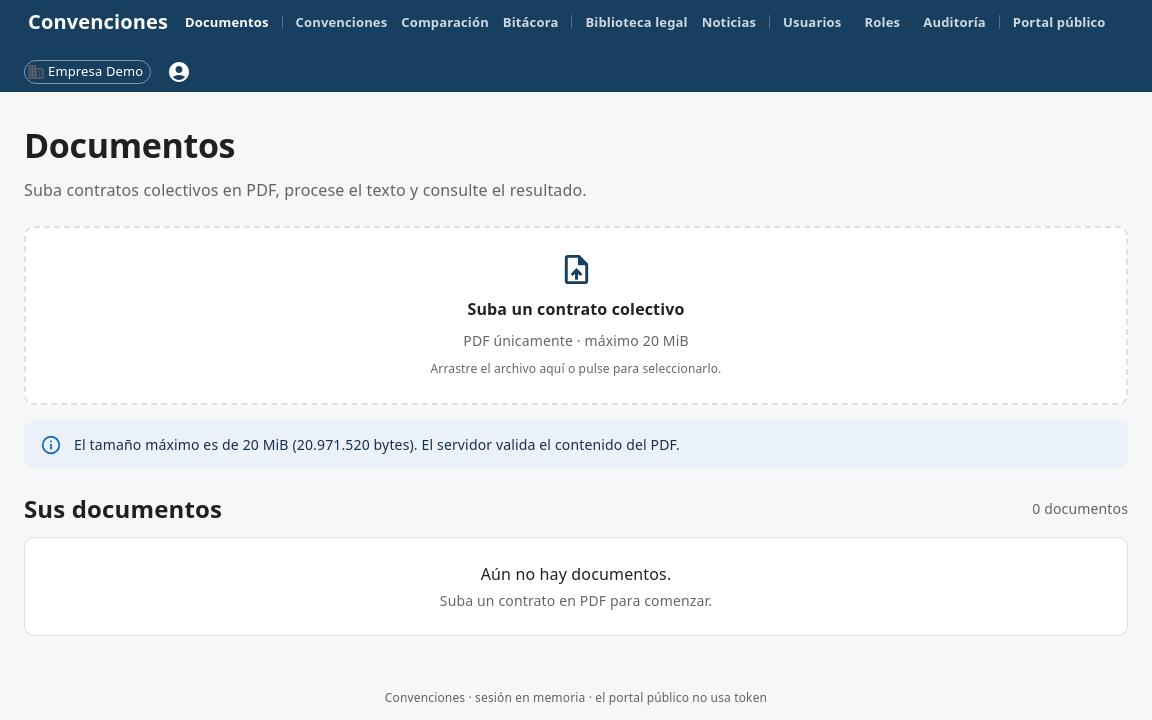
it: LoginPage › signs out from the account menu
This screenshot has width=1152, height=720.
expect the heading "Documentos" is shown: met, box 24,122 -> 235,168
Click the button named "Cuenta de Ana Editora".
click(179, 72)  # box 159,52 -> 199,92
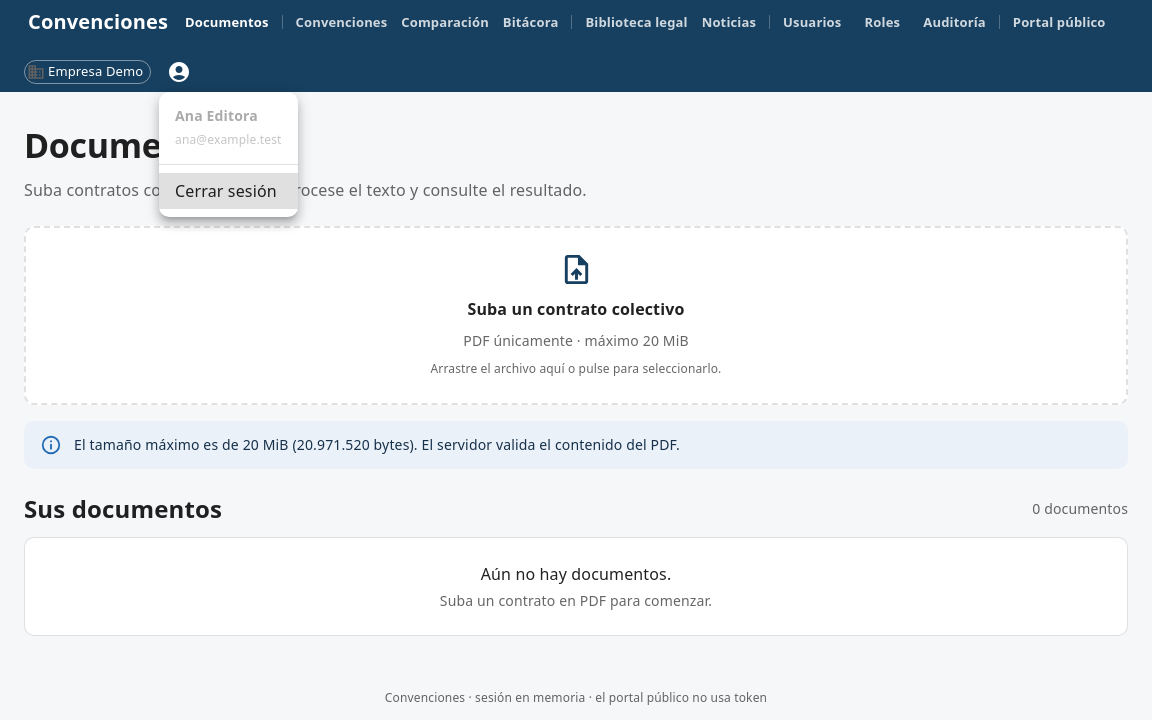
Click the menu item "Cerrar sesión".
click(228, 191)  # box 159,173 -> 298,209
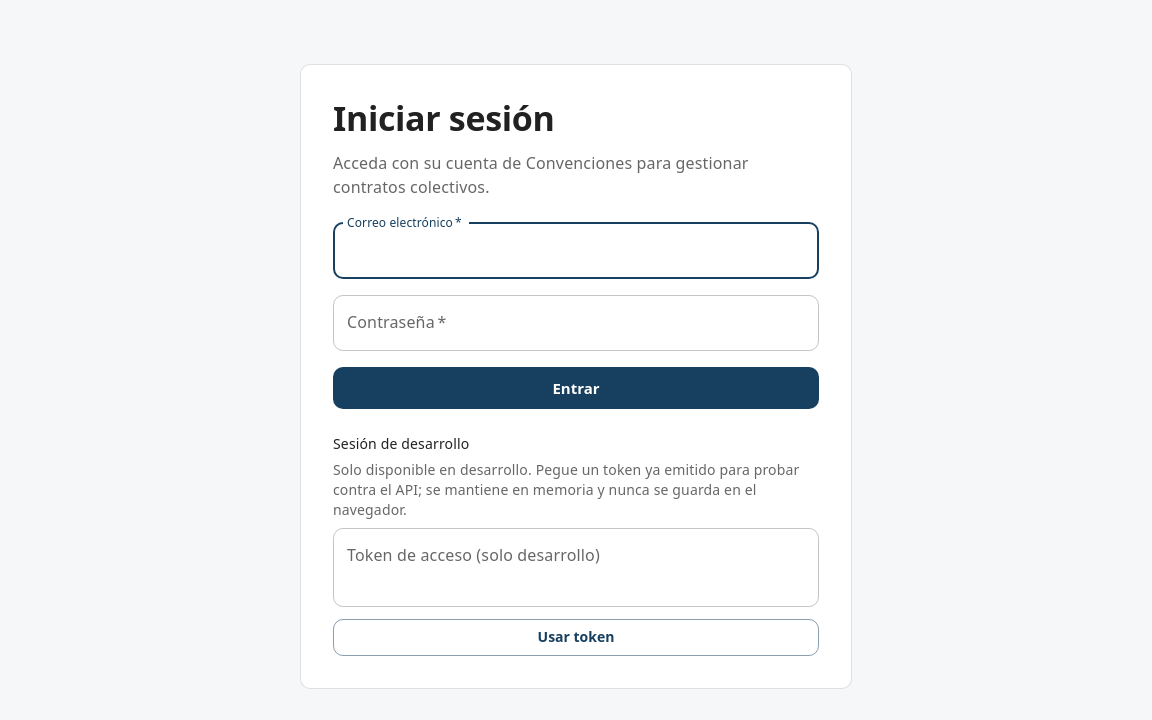
expect the heading "Iniciar sesión" is shown: met, box 333,95 -> 554,141
